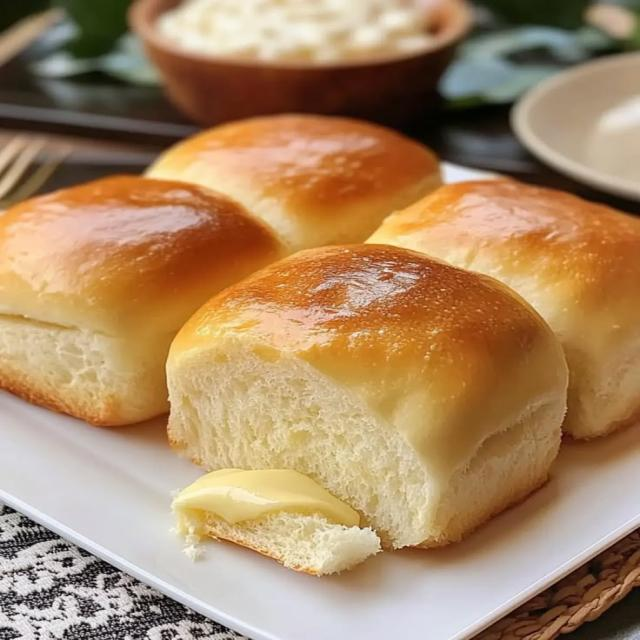bread: (167, 245, 567, 547), (0, 177, 284, 424), (369, 180, 639, 438), (147, 115, 440, 251), (178, 511, 380, 575)
